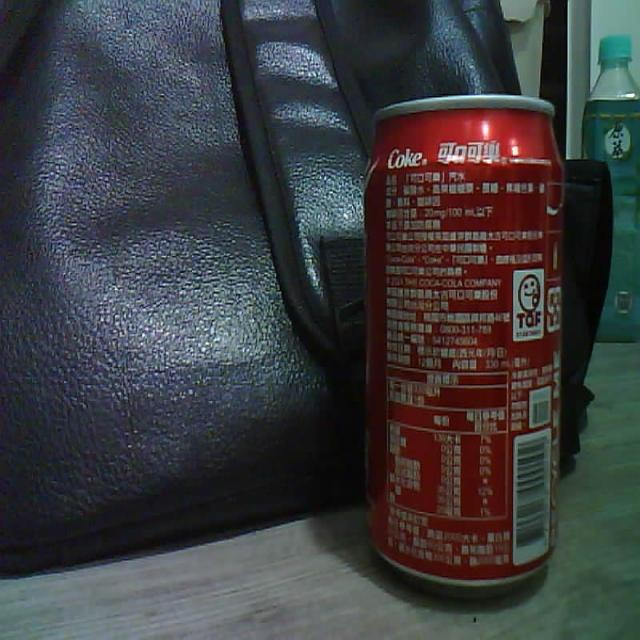can: (365, 95, 563, 586)
